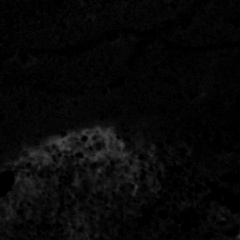Vegetation: (30, 144, 128, 163), (50, 135, 120, 148), (18, 171, 43, 196), (79, 129, 116, 135)
